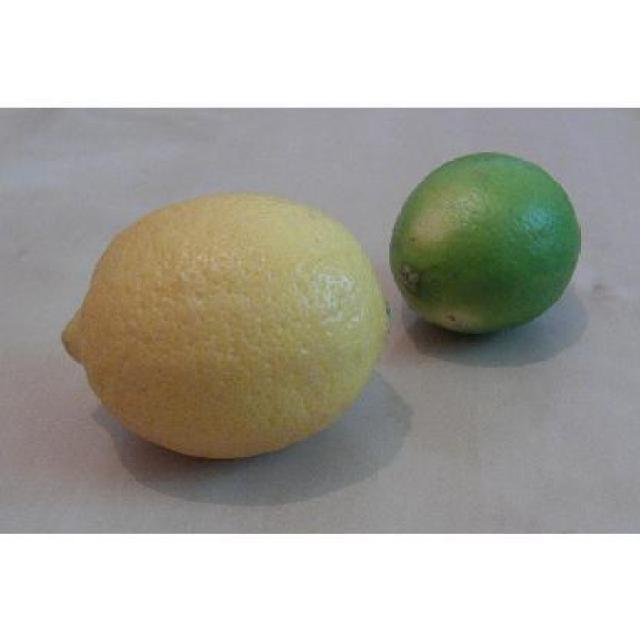Lemon: (58, 194, 392, 458), (388, 148, 582, 332)
